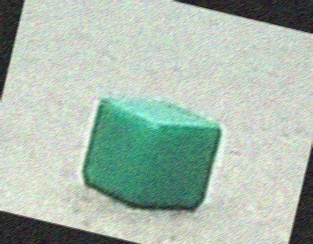green_cube: (78, 85, 231, 218)
